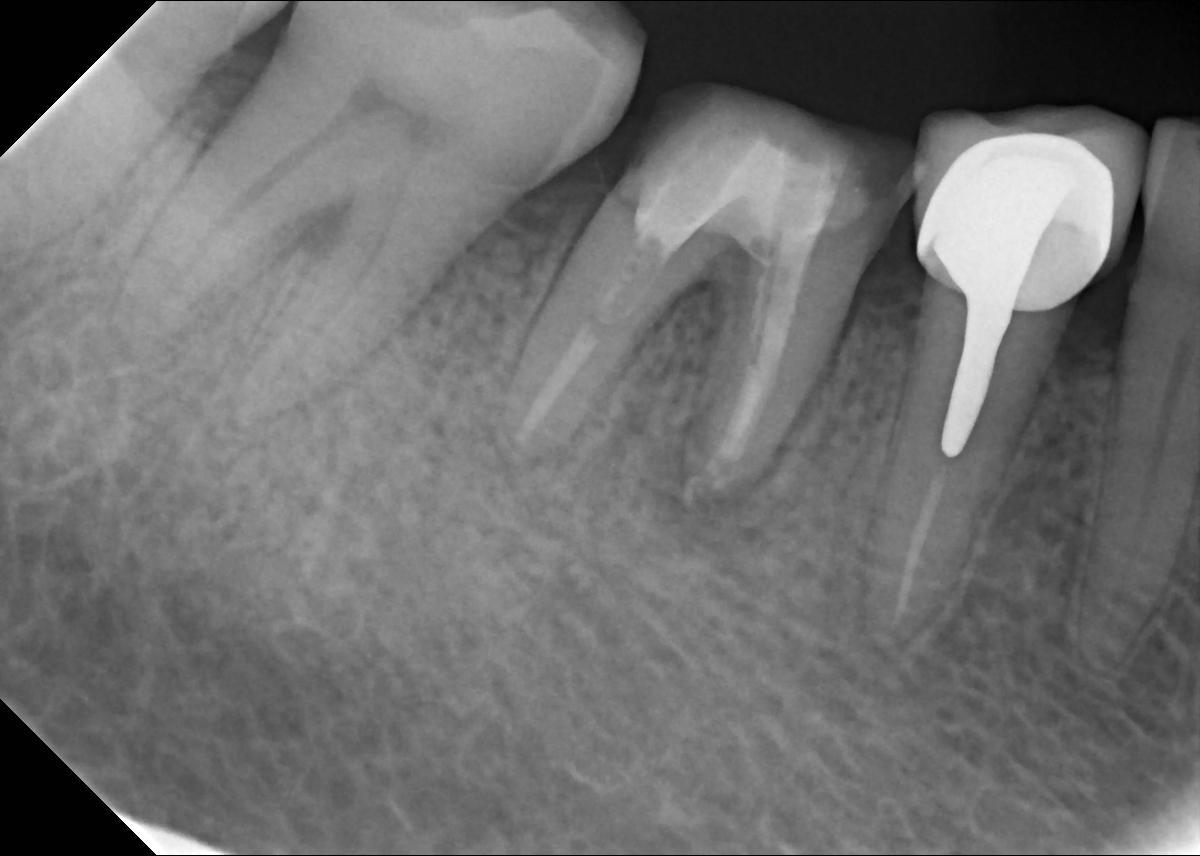Dental Caries: (645, 415, 788, 551), (647, 274, 724, 379)
Endo-Periodontal Lesion: (292, 201, 355, 254)
